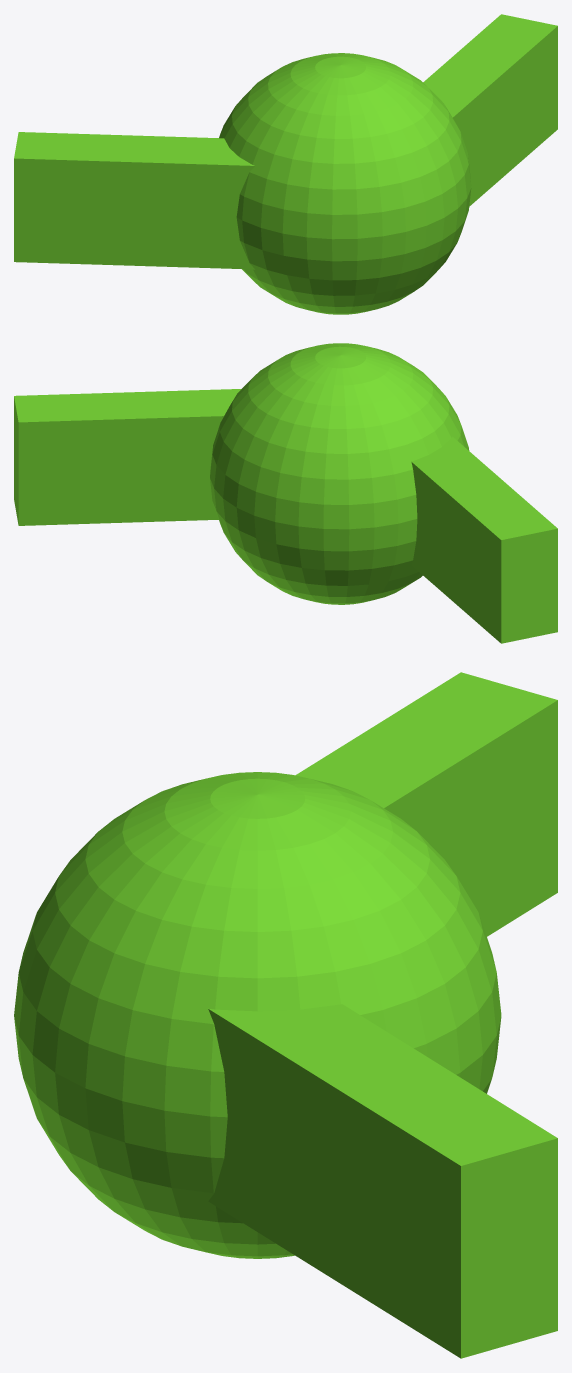
File: Player.gltf
3 views of the same model, one above another, from view 1: azimuth 30°, elevation 25°; view 2: azimuth 150°, elevation 25°; view 3: azimuth 270°, elevation 25° (orthographic). The views are drawn at different scales.
Parts seen in each view (by area): view 1: player; view 2: player; view 3: player.
Part boxes in pixels (x1=…): player: x1=14, y1=14, x2=557, y2=314; player: x1=14, y1=343, x2=557, y2=643; player: x1=14, y1=672, x2=557, y2=1358.
Size of the model in its own units: 4.79 by 2 by 2.23.
Materials: 1 (1 with a texture image).
